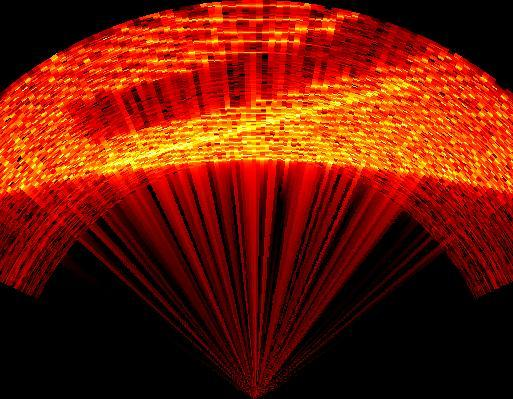pipe: (63, 13, 455, 170)
